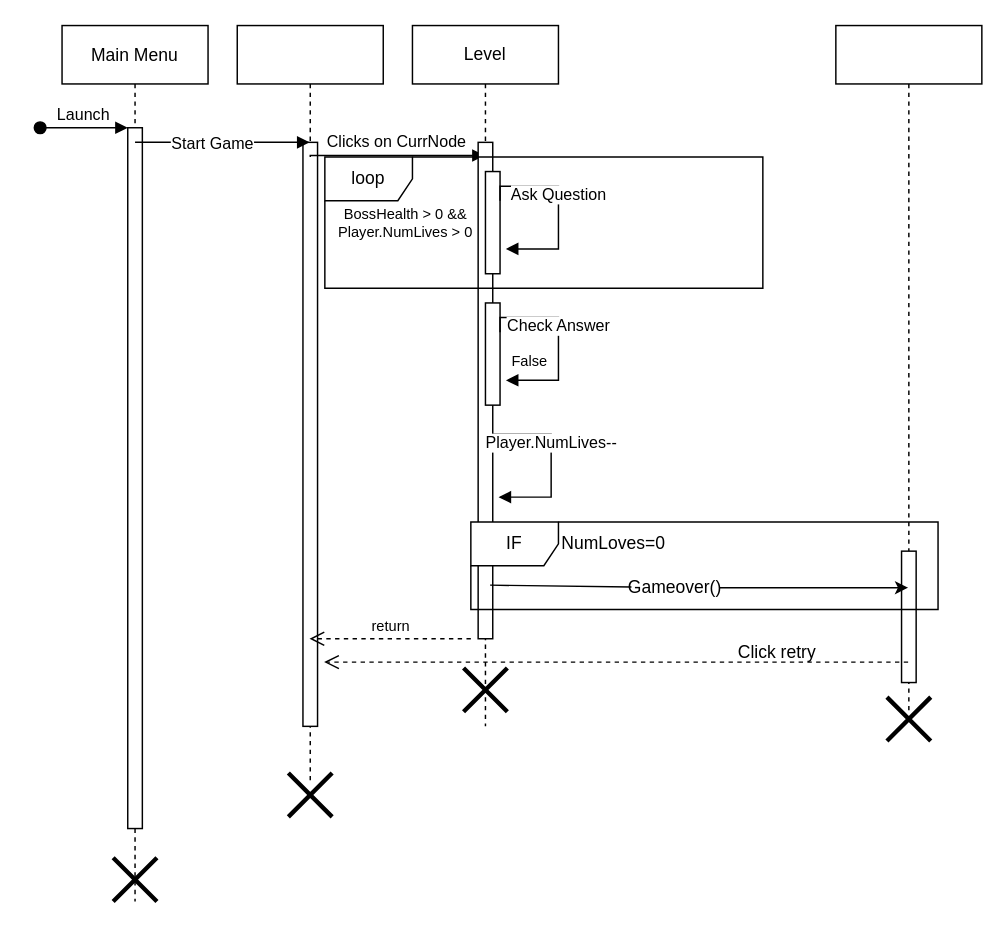
This 1007x929 diagram has some shape labels left out. Here are the shapes that lost their labels. From the top down, the box of each, then its label:
(834, 24, 982, 712): GameOver
(236, 24, 383, 785): Player
